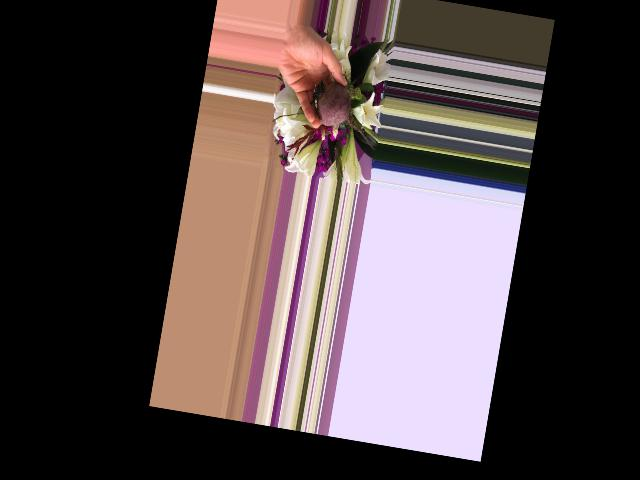beet: (305, 79, 384, 150)
